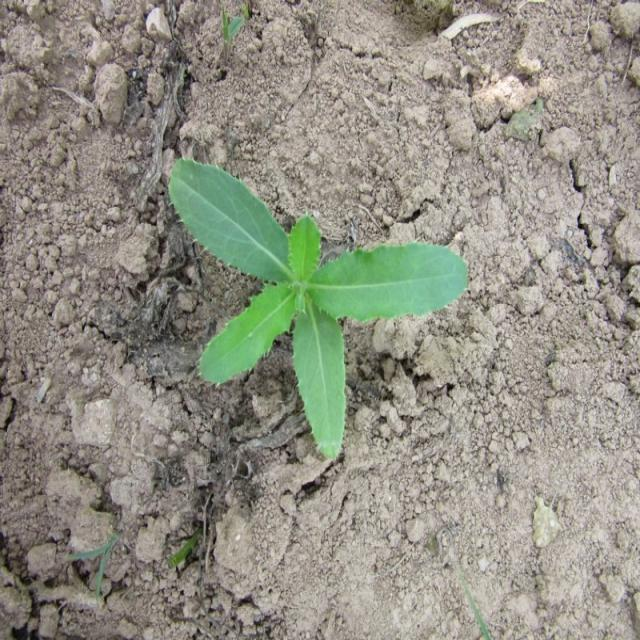field_thistle: (157, 165, 472, 460)
